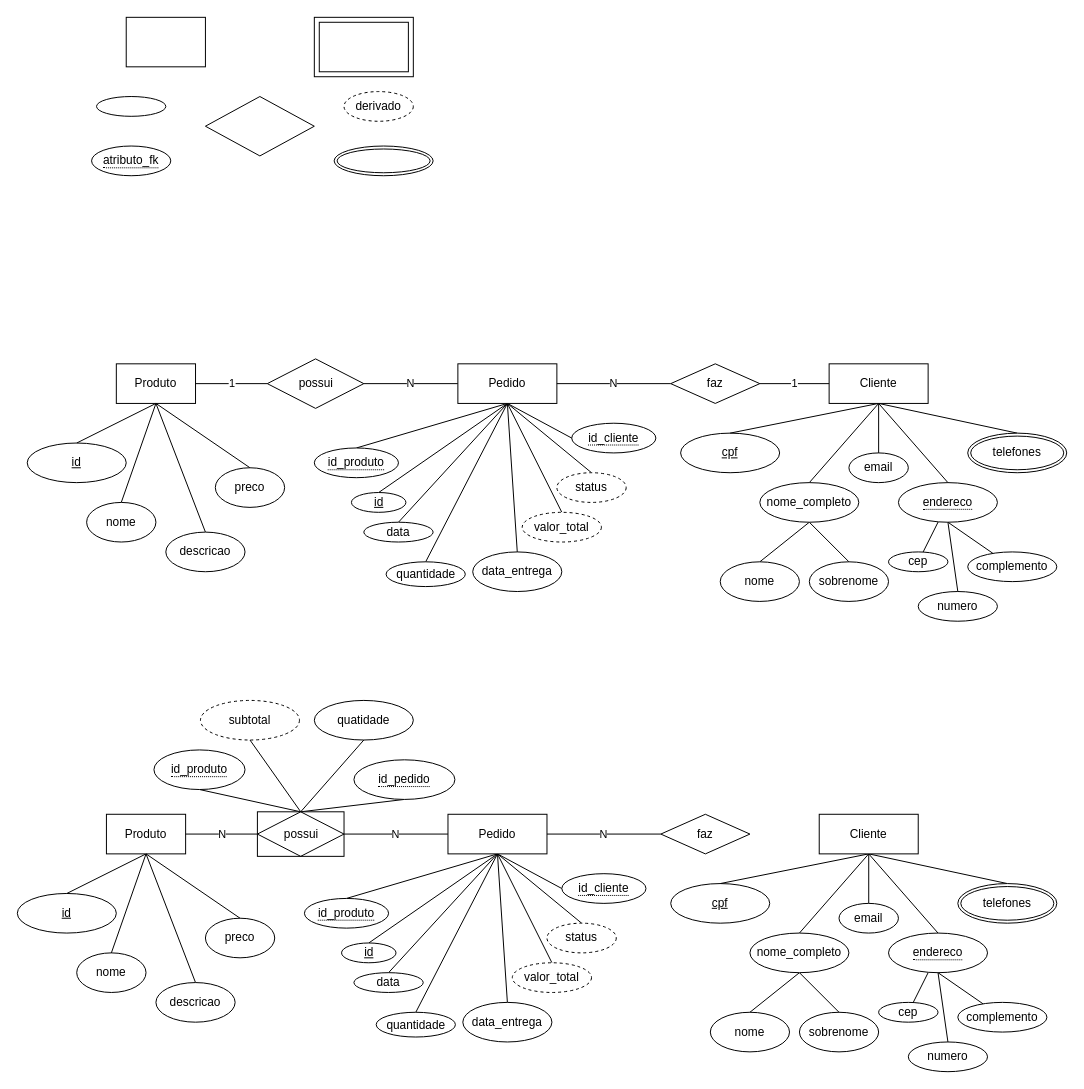
Image size: 1084x1089. Some labels were removed from this diagram. Here are the shapes that lost their labels. From the top down, the box of each, then its label:
(125, 16, 205, 67): Entidade
(313, 16, 413, 77): Entidade fraca
(96, 96, 166, 116): normal
(204, 96, 314, 156): relacionamento
(333, 145, 433, 176): multivalorado
